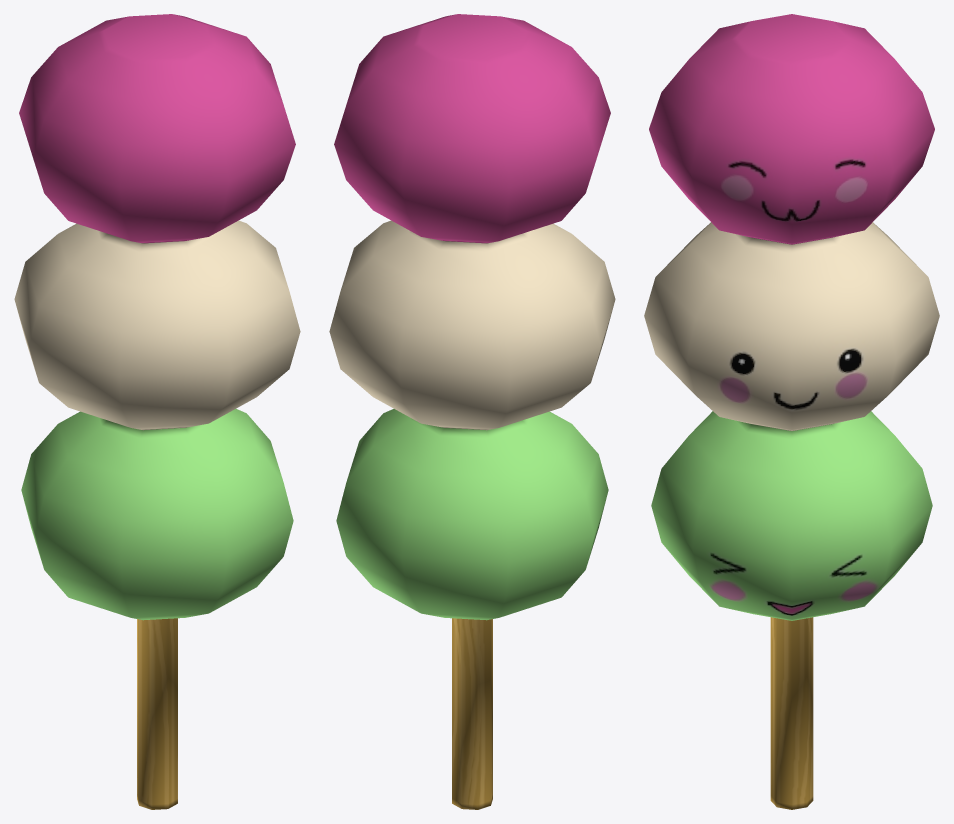
The model's file is dango fbx- pozitivni lik.fbx.
3 views of the same model, side by side, from view 1: azimuth 30°, elevation 25°; view 2: azimuth 150°, elevation 25°; view 3: azimuth 270°, elevation 25° (orthographic).
Parts seen in each view (by area): view 1: dango; view 2: dango; view 3: dango.
Part boxes in pixels (bbox=[...]): dango: bbox=[14, 14, 300, 809]; dango: bbox=[329, 14, 615, 809]; dango: bbox=[644, 14, 939, 809].
Bounding box in the file's own units: 11.58 × 32.98 × 11.58.
Materials: 1 (1 with a texture image).
